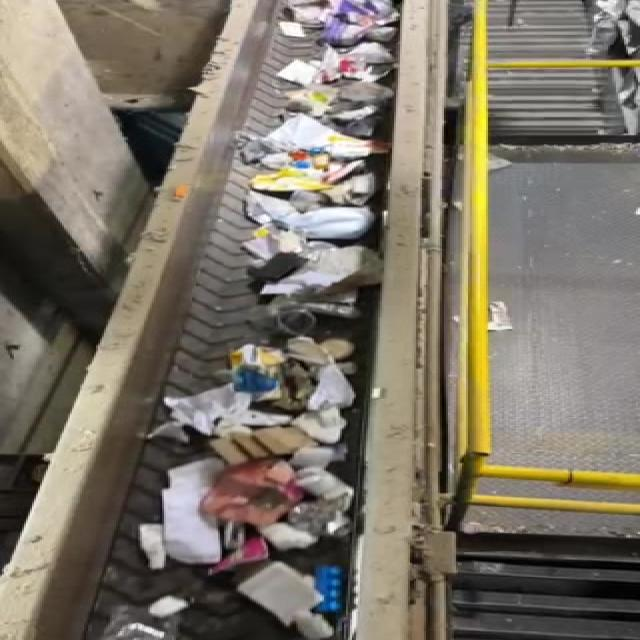paper: (143, 457, 223, 575), (232, 562, 320, 636)
pp: (203, 467, 316, 536), (105, 593, 188, 640), (303, 564, 356, 622)
